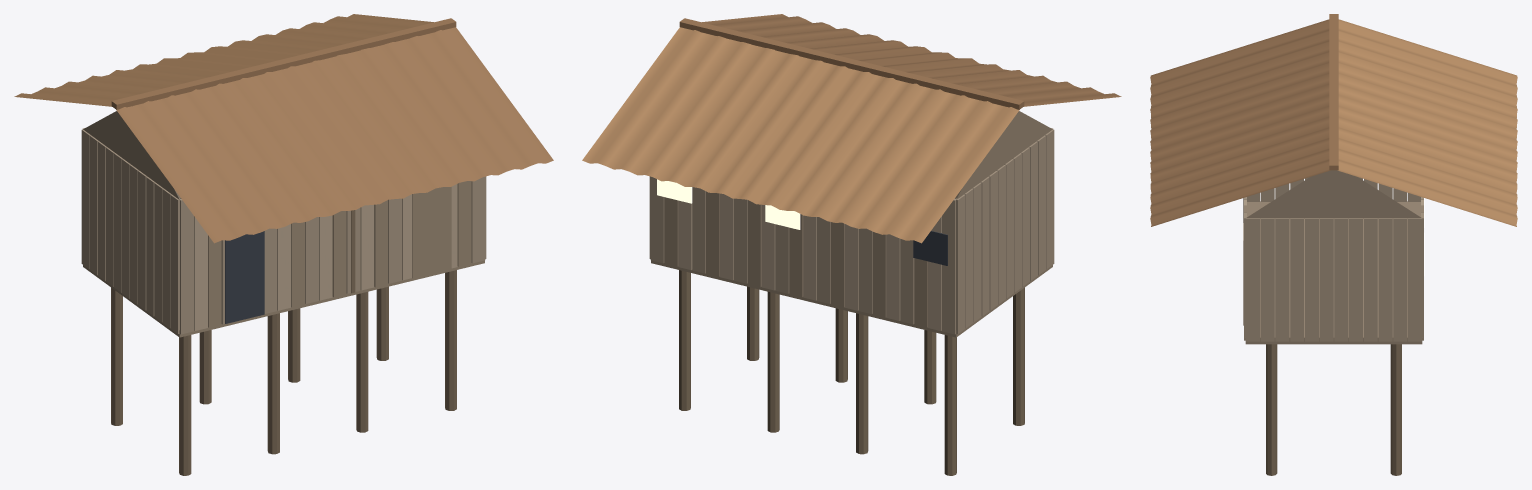
File: stilt_shack_b.glb
3 views of the same model, side by side, from view 1: azimuth 30°, elevation 25°; view 2: azimuth 150°, elevation 25°; view 3: azimuth 270°, elevation 25° (orthographic). The views are drawn at different scales.
Parts seen in each view (by area): view 1: MK_stilt_shack_b; view 2: MK_stilt_shack_b; view 3: MK_stilt_shack_b.
Part boxes in pixels (x1,y1,x2,y2): MK_stilt_shack_b: (14,14,553,475); MK_stilt_shack_b: (582,14,1121,475); MK_stilt_shack_b: (1150,14,1517,475).
Size of the model in its own units: 6.9 by 6.88 by 7.06.
